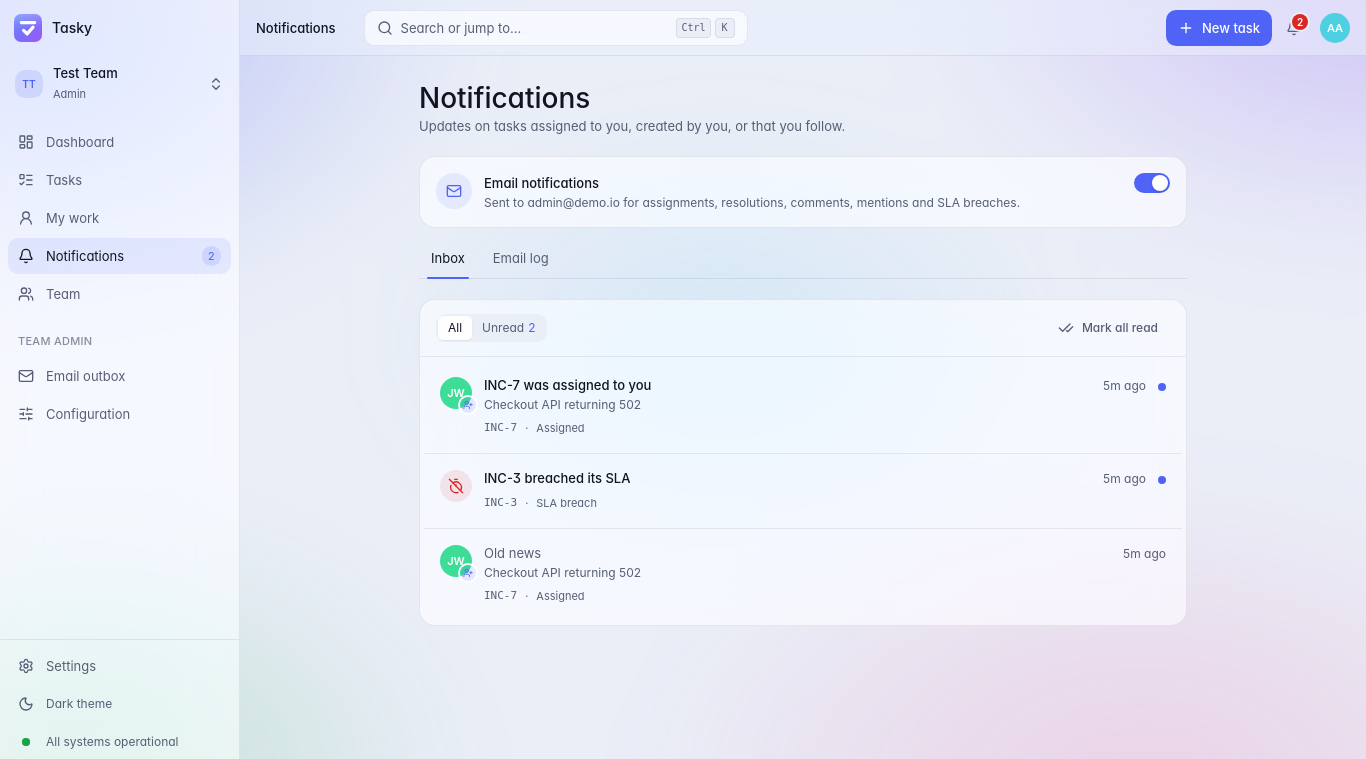
notification bell › opening a notification marks it read and goes to the task
Click the button named "Notifications, 2 unread".
click(1294, 28)  # box [1276,10,1312,46]
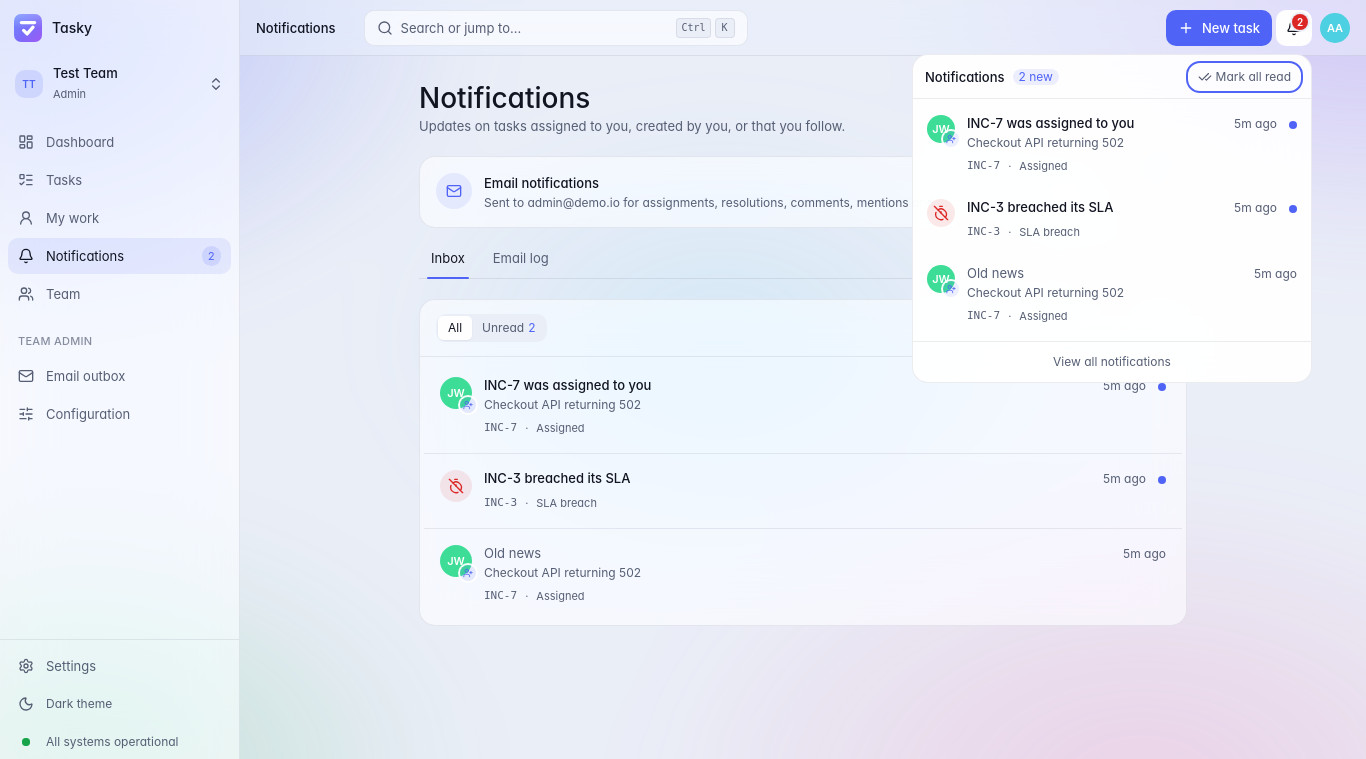
Click the 1st text "INC-7 was assigned to you".
click(1051, 123)  # box [967,115,1134,131]
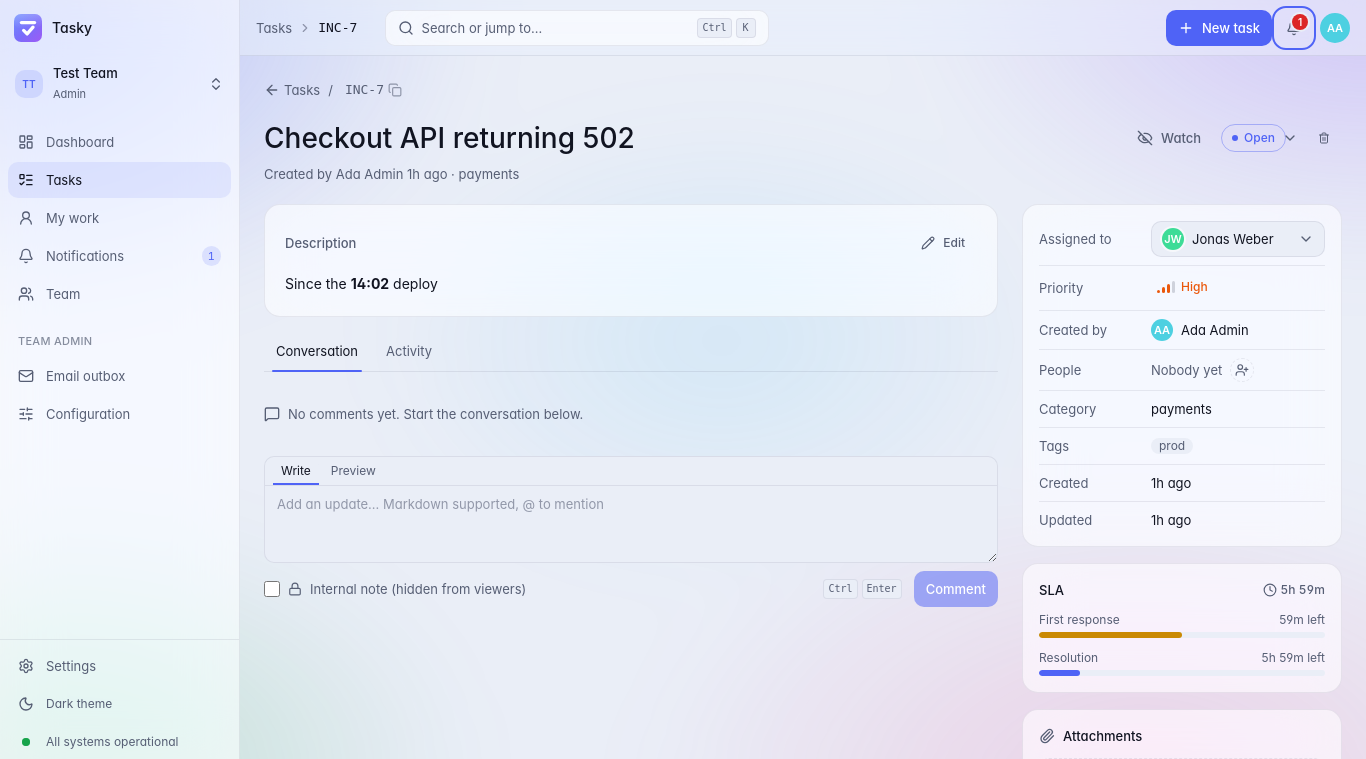
Expected: the heading "Checkout API returning 502" is shown, [264,121,635,155]
Now the button named "Notifications, 1 unread" is shown, box [1276,10,1312,46]
